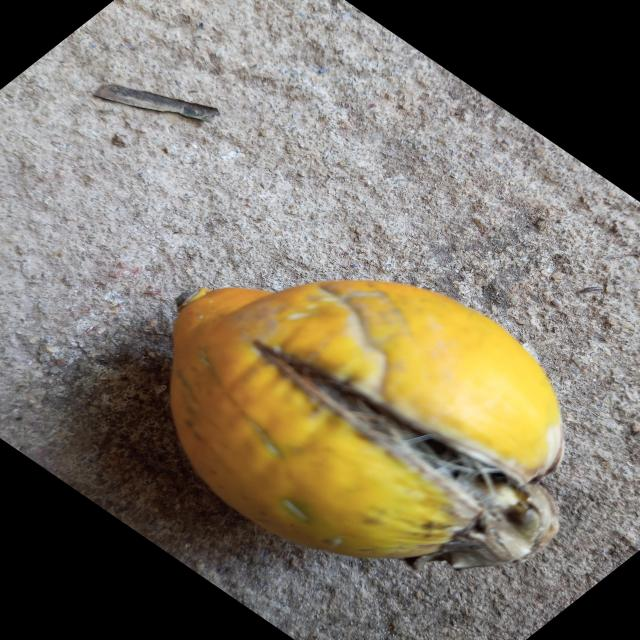damaged: (171, 281, 563, 569)
